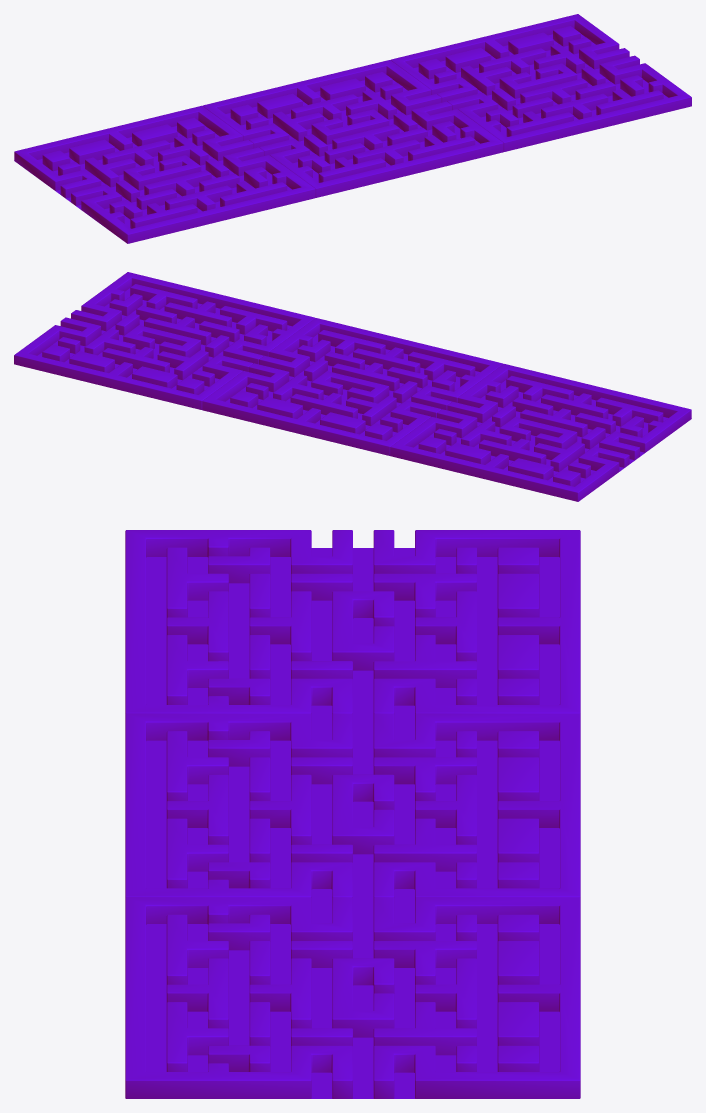
File: pacmanMapTEMP.gltf
3 views of the same model, one above another, from view 1: azimuth 30°, elevation 25°; view 2: azimuth 150°, elevation 25°; view 3: azimuth 270°, elevation 25° (orthographic). The views are drawn at different scales.
Parts seen in each view (by area): view 1: wholemapallcombined.001, wholemapallcombined.002, wholemapallcombined; view 2: wholemapallcombined.001, wholemapallcombined, wholemapallcombined.002; view 3: wholemapallcombined.002, wholemapallcombined, wholemapallcombined.001.
Part boxes in pixels (x1=…): wholemapallcombined.001: x1=14, y1=105, x2=315, y2=243; wholemapallcombined.002: x1=391, y1=14, x2=691, y2=151; wholemapallcombined: x1=202, y1=60, x2=503, y2=197; wholemapallcombined.001: x1=390, y1=364, x2=691, y2=501; wholemapallcombined: x1=202, y1=318, x2=503, y2=455; wholemapallcombined.002: x1=14, y1=272, x2=314, y2=409; wholemapallcombined.002: x1=125, y1=897, x2=580, y2=1098; wholemapallcombined: x1=125, y1=713, x2=580, y2=915; wholemapallcombined.001: x1=125, y1=530, x2=580, y2=731.
Size of what is drawn, in the model's own units: 126 by 2 by 44.
